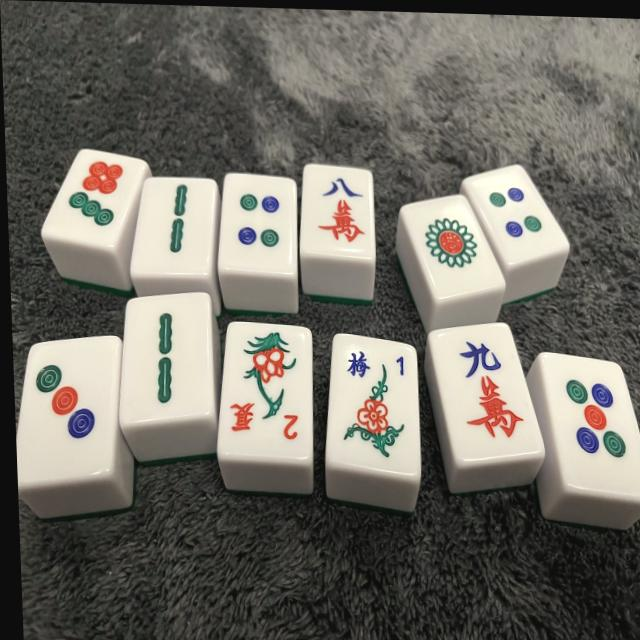f1: (324, 333, 420, 470)
ff2: (211, 319, 314, 458)
m8: (301, 166, 376, 257)
m9: (432, 325, 546, 466)
s2: (116, 293, 215, 430), (124, 177, 220, 281)
t1: (403, 191, 510, 304)
t3: (14, 331, 128, 488)
t4: (464, 163, 571, 272), (213, 173, 299, 274)
t5: (539, 355, 640, 503)
t7: (37, 148, 149, 251)
